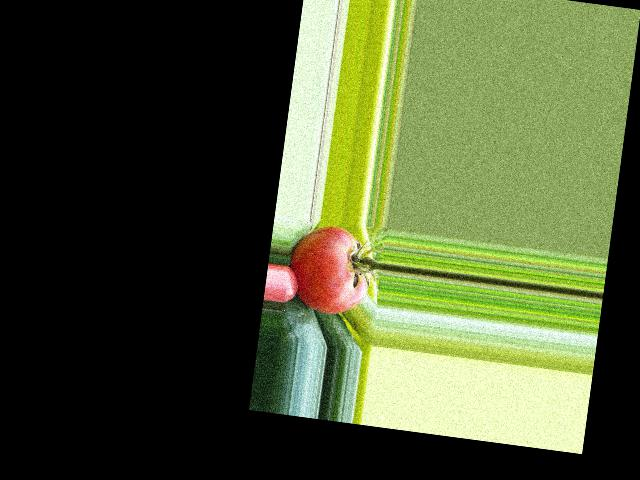tomato: (283, 221, 375, 317)
